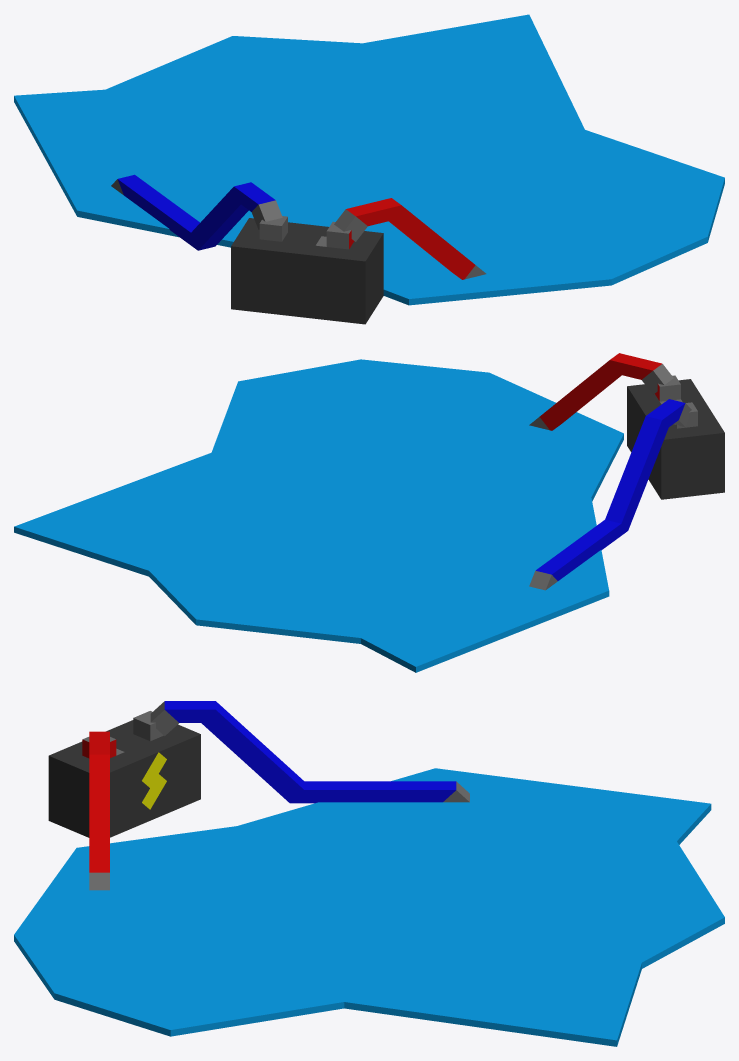
Rendered from ElectricTrap.fbx.
3 renders of one model, top to bottom at view 1: azimuth 30°, elevation 25°; view 2: azimuth 150°, elevation 25°; view 3: azimuth 270°, elevation 25°, orthographic. The views are drawn at different scales.
Parts seen in each view (by area): view 1: Cube; view 2: Cube; view 3: Cube.
Part boxes in pixels (x1,y1,x2,y2): Cube: (14,14,724,324); Cube: (14,353,724,672); Cube: (14,701,724,1046).
Bounding box in the file's own units: 179 × 32.89 × 198.
